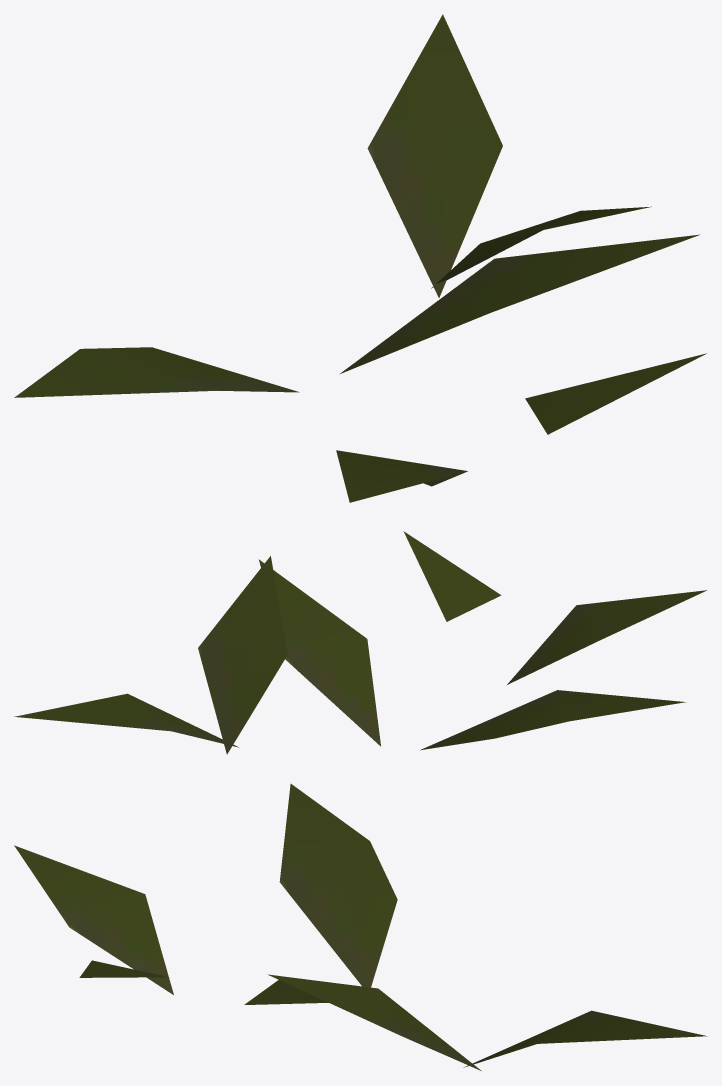
The model's file is EnvFldMD_FoliageGrass_A_MA_Lower.FBX.
3 renders of one model, top to bottom at view 1: azimuth 30°, elevation 25°; view 2: azimuth 150°, elevation 25°; view 3: azimuth 270°, elevation 25°, orthographic. The views are drawn at different scales.
Parts seen in each view (by area): view 1: EnvFldMD_FoliageGrass_A_MA_Lower; view 2: EnvFldMD_FoliageGrass_A_MA_Lower; view 3: EnvFldMD_FoliageGrass_A_MA_Lower.
Part boxes in pixels (left/top/right/bottom): EnvFldMD_FoliageGrass_A_MA_Lower: left=14, top=14, right=706, bottom=502; EnvFldMD_FoliageGrass_A_MA_Lower: left=14, top=531, right=707, bottom=754; EnvFldMD_FoliageGrass_A_MA_Lower: left=14, top=784, right=707, bottom=1070.
Size of the model in its own units: 55.53 by 12.58 by 62.74.
Materials: 1 (1 with a texture image).
